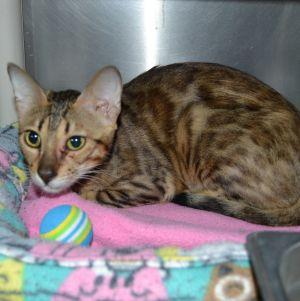bengal: (2, 51, 129, 203)
